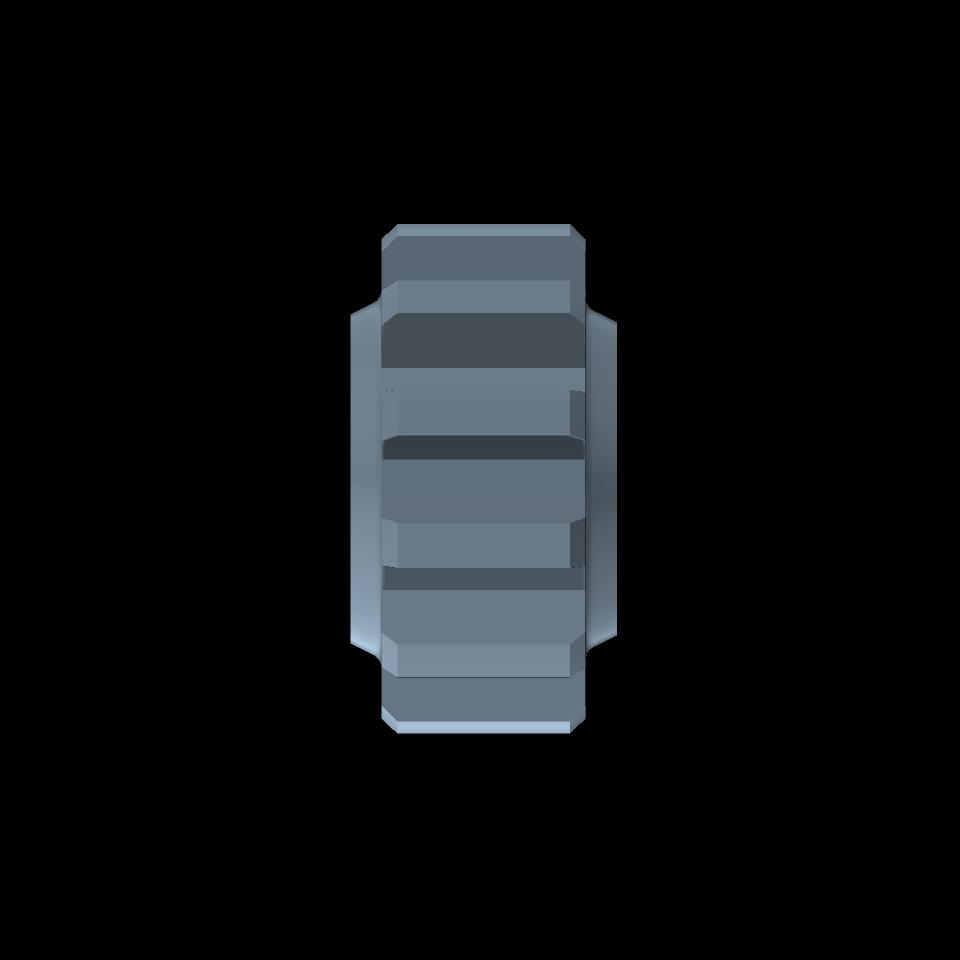Straight: (398, 223, 571, 734)
